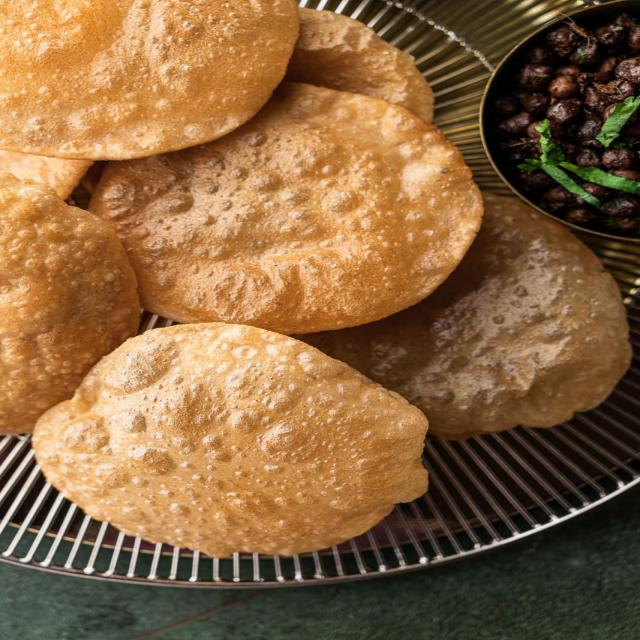poori: (21, 314, 434, 570), (87, 80, 486, 339), (339, 182, 640, 440), (0, 0, 306, 166), (0, 176, 138, 433)
